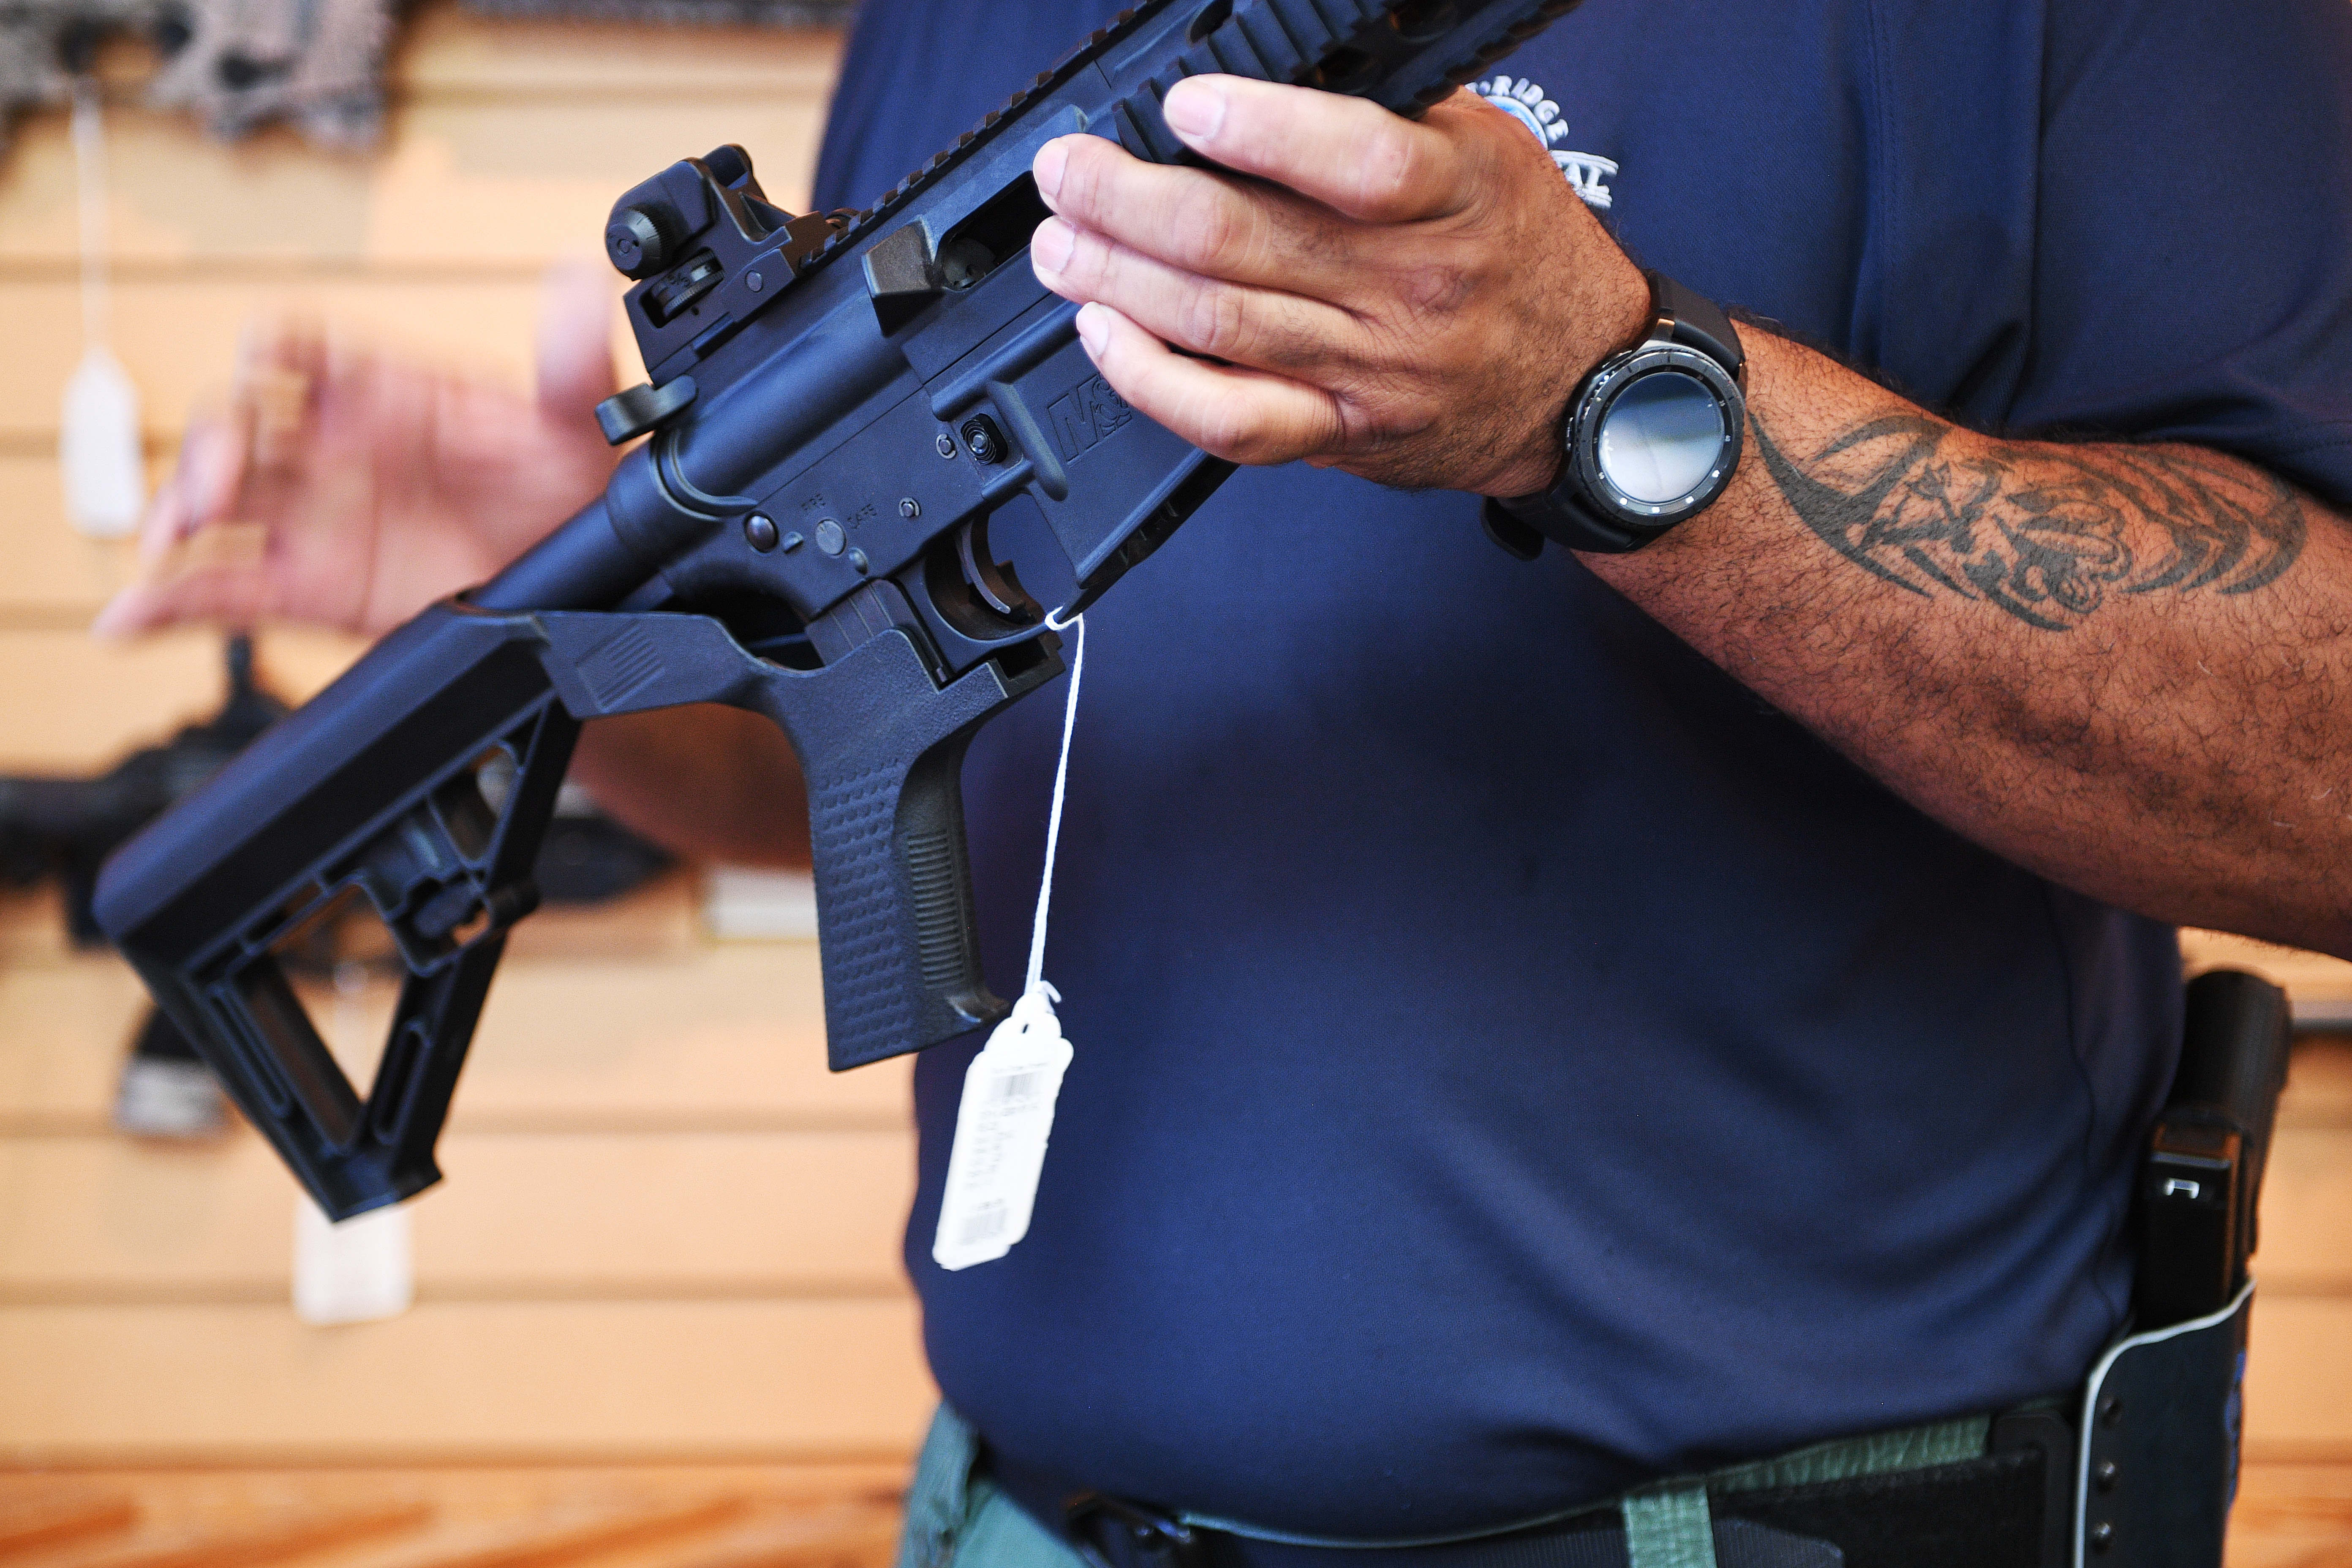Gun: (404, 186, 1199, 1013)
